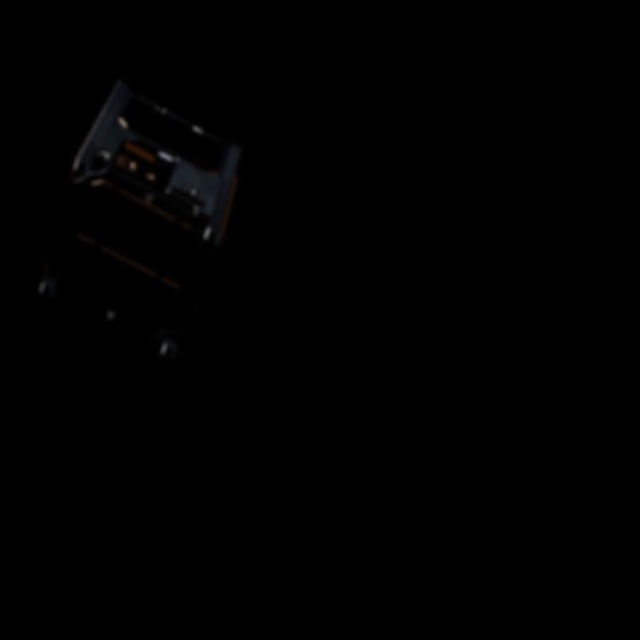medium_debris: (20, 63, 279, 399)
